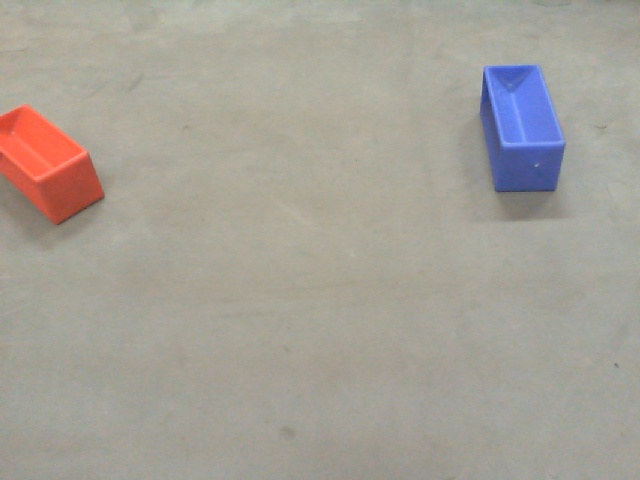BlueSample: (476, 61, 569, 203)
RedSample: (1, 103, 105, 227)
